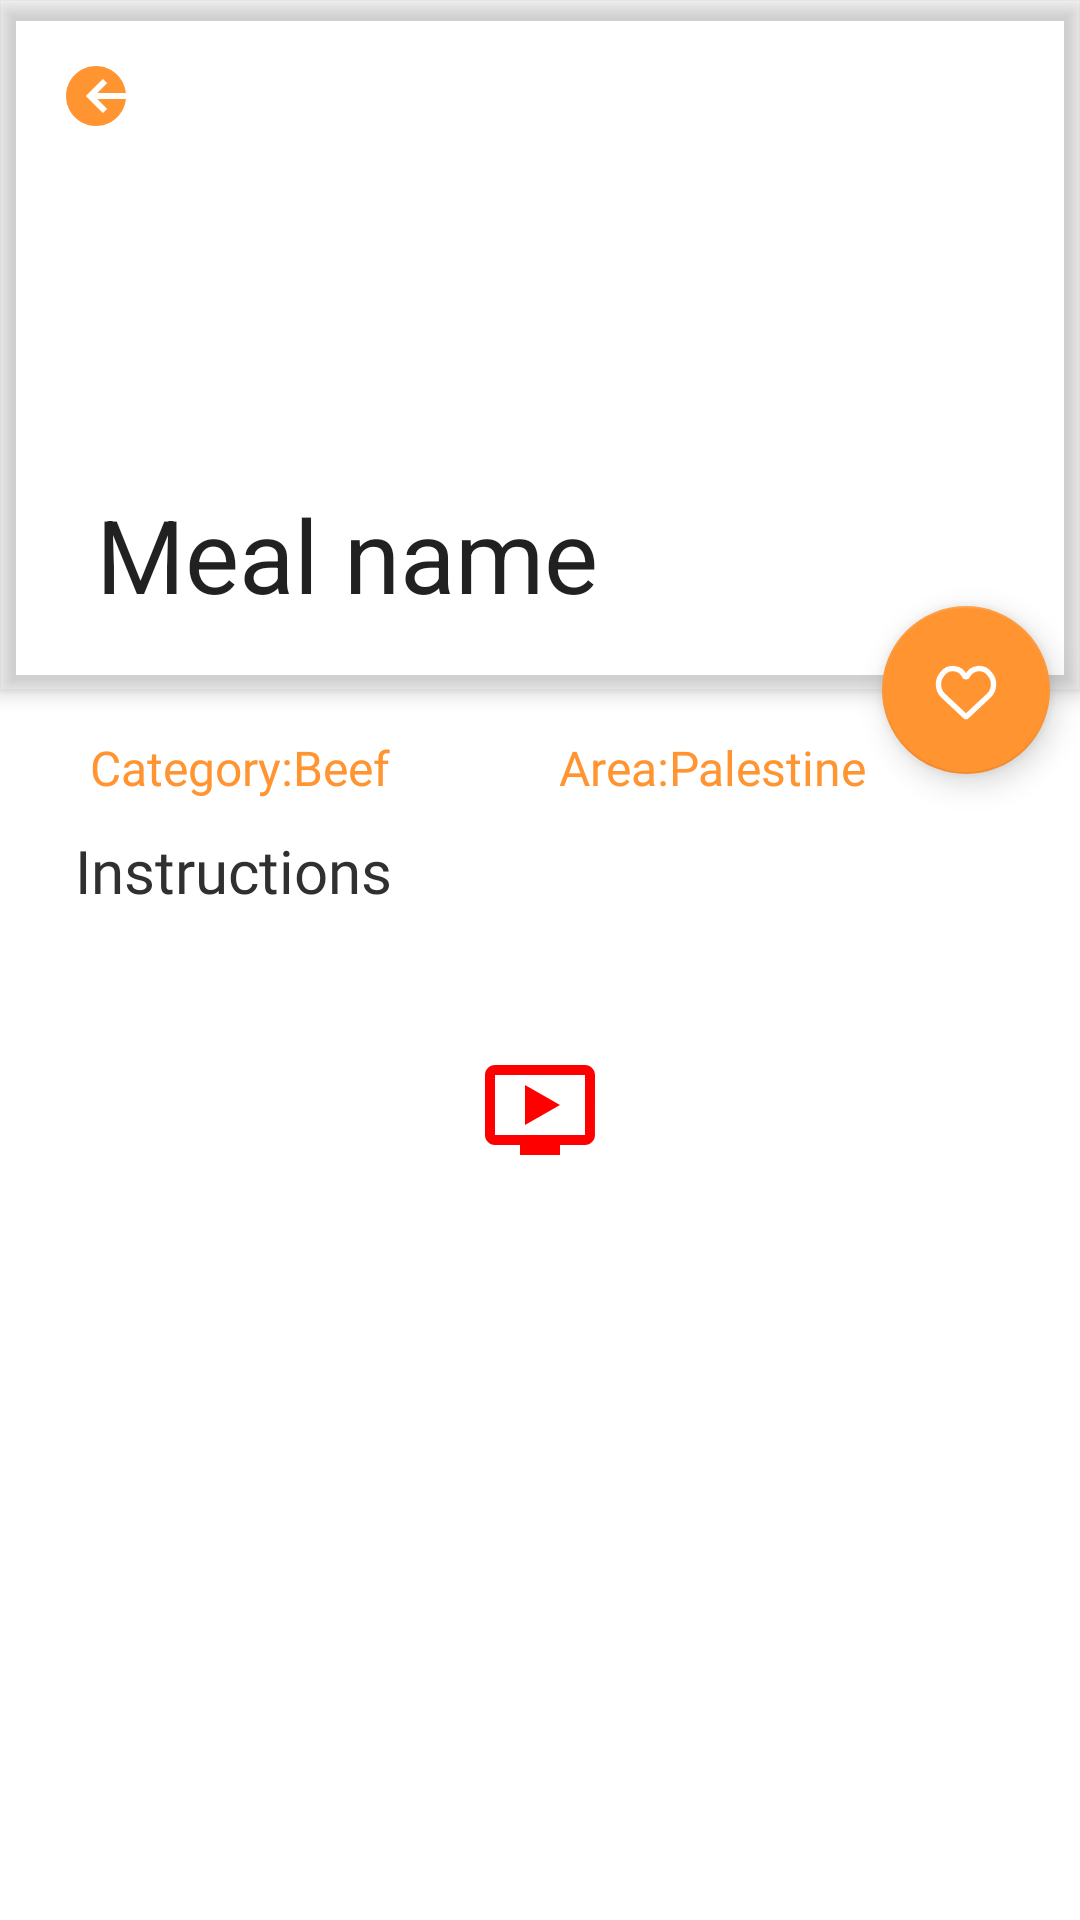

Screen size 1080px×1920px. Icon name, then its box in pixels as (x1, y1, x2, y2):
back: (66, 66, 126, 126)
Favorite recipes: (882, 606, 1050, 774)
youtube: (485, 1065, 595, 1155)
